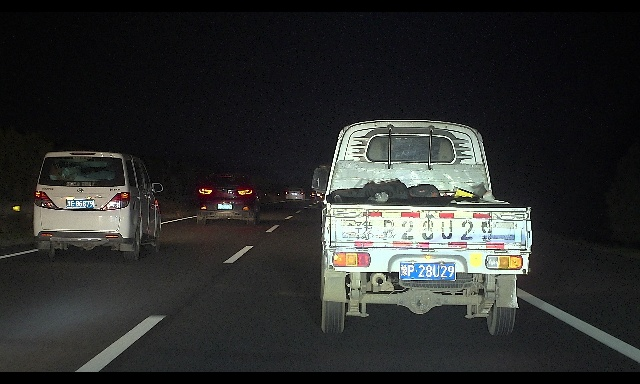car: (33, 150, 163, 260), (196, 170, 263, 226), (284, 188, 306, 202)
truck: (311, 118, 533, 338)
